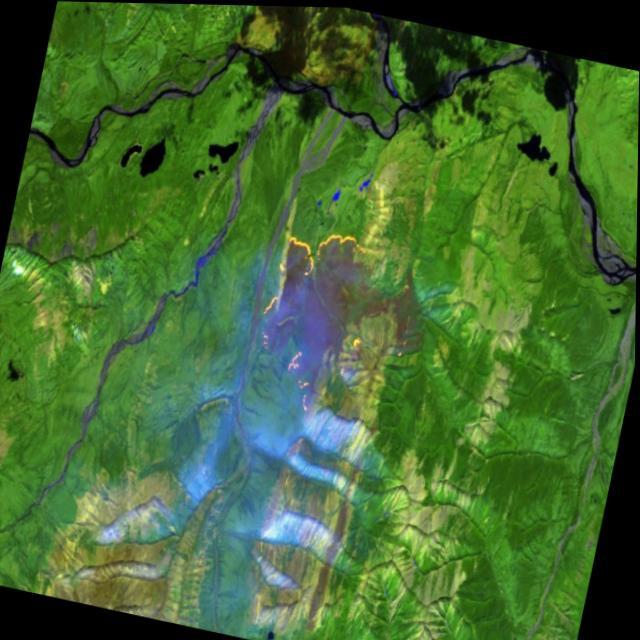fire: (240, 209, 381, 430)
